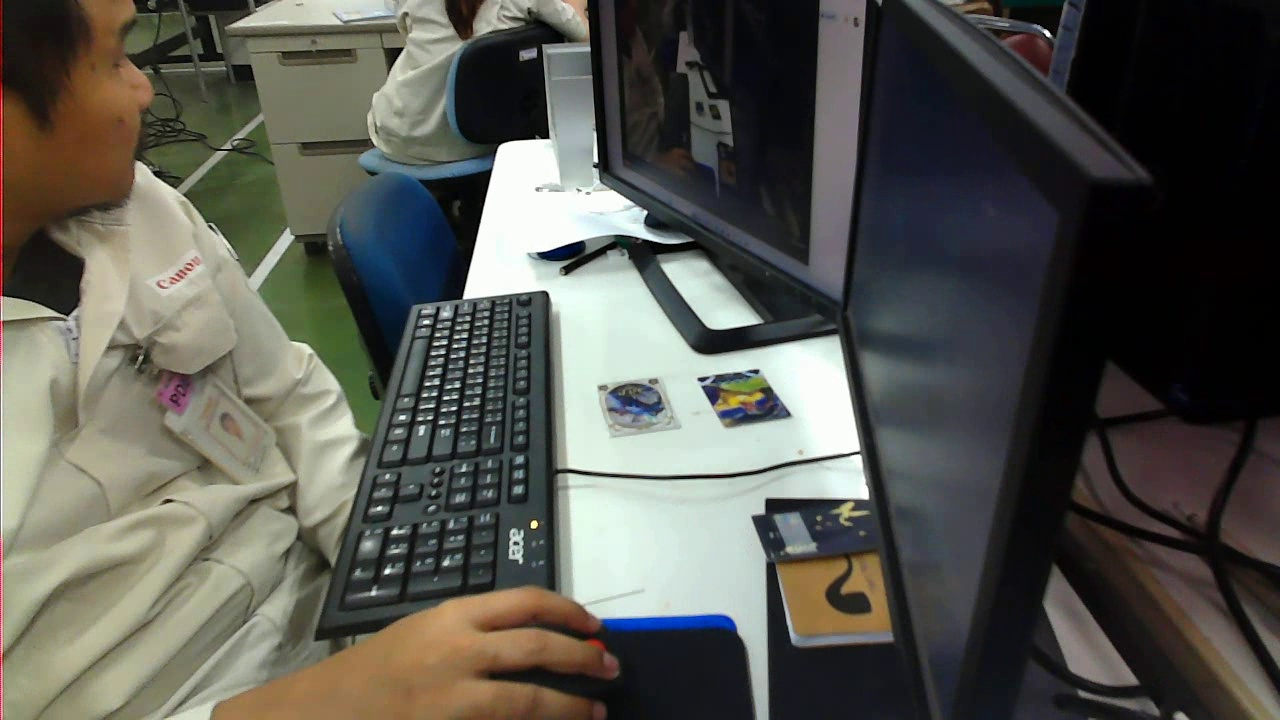can: (691, 361, 789, 428), (590, 368, 680, 436)
